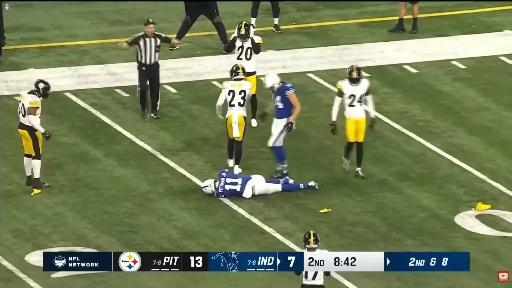Helmet: (34, 79, 50, 98), (347, 65, 362, 84), (236, 22, 251, 41), (303, 231, 319, 248), (264, 73, 280, 90), (230, 64, 246, 79), (202, 179, 217, 194)
Jersey: (337, 79, 369, 118), (219, 81, 251, 117), (216, 169, 252, 198), (18, 92, 41, 126), (273, 82, 294, 119), (235, 39, 256, 73), (303, 272, 324, 285)
Player: (330, 65, 375, 178), (224, 22, 262, 127), (216, 64, 251, 174), (264, 74, 301, 177), (18, 79, 50, 194), (202, 169, 317, 198), (295, 272, 330, 287)
